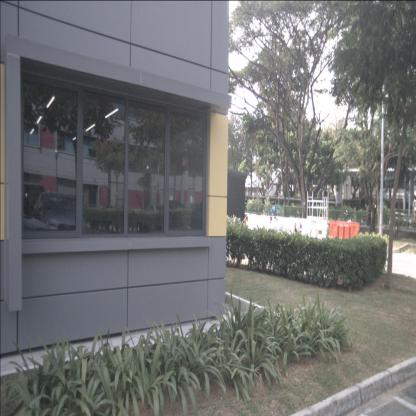barrier: (328, 220, 360, 247), (301, 218, 327, 242), (247, 214, 271, 234), (276, 216, 295, 240), (290, 218, 300, 234)
cone: (244, 218, 247, 229)
